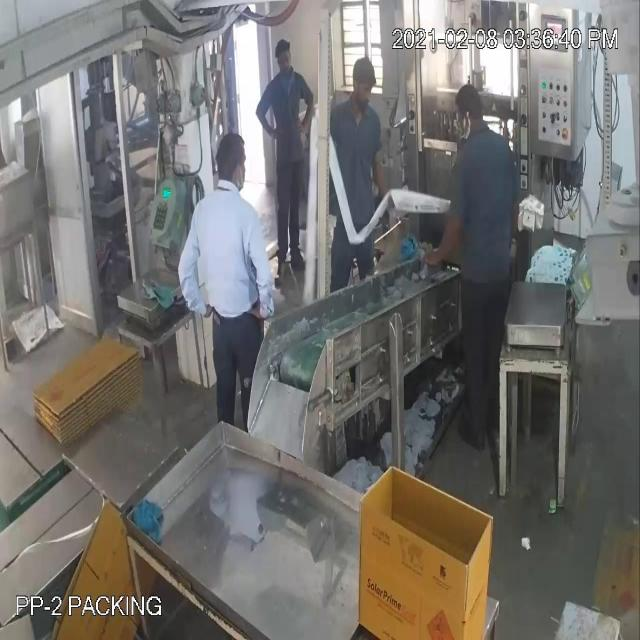No_Gloves: (19, 70, 445, 278)
